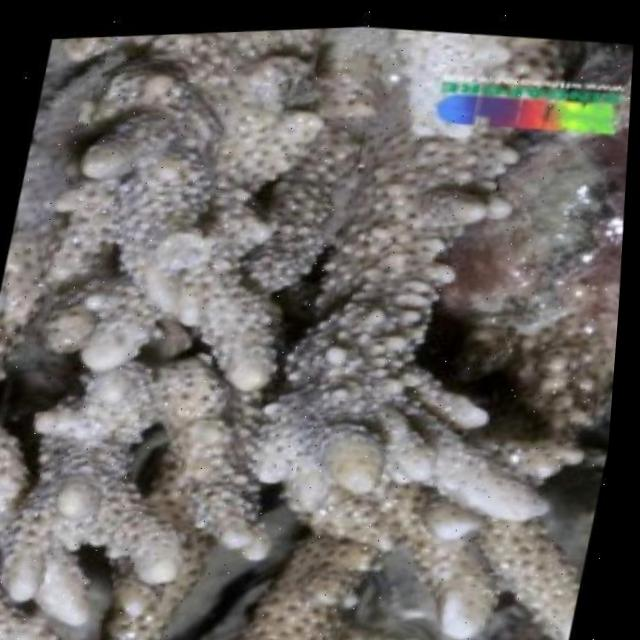Bleached Coral: (0, 9, 639, 640)
